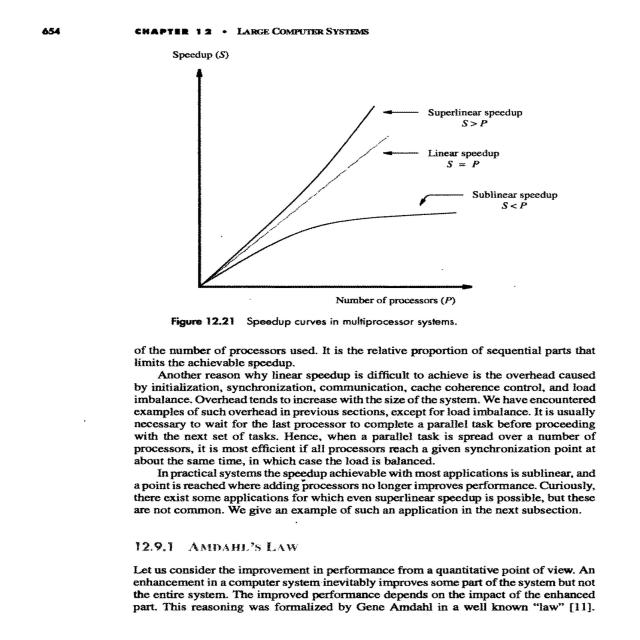diagram: (102, 37, 620, 335)
